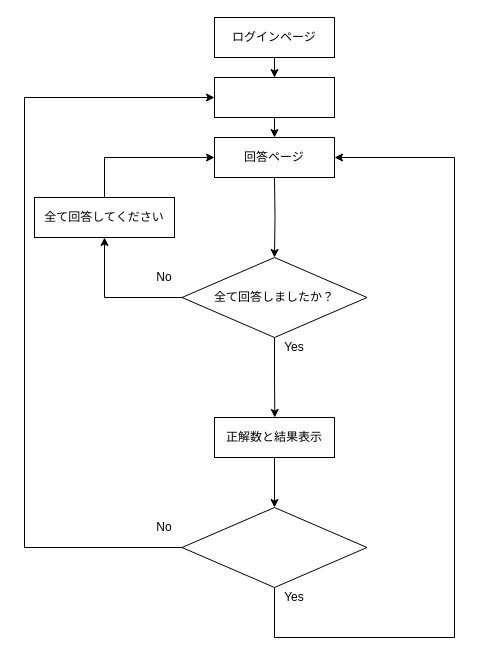
Image size: 480x663. Some labels were removed from this diagram. The shapes that lost their labels are listed below. From the top down, each one's centre as x and y in pixels, then its label:
the point at 274,97: 回答者ページ
the point at 274,547: 再度回答しますか？
